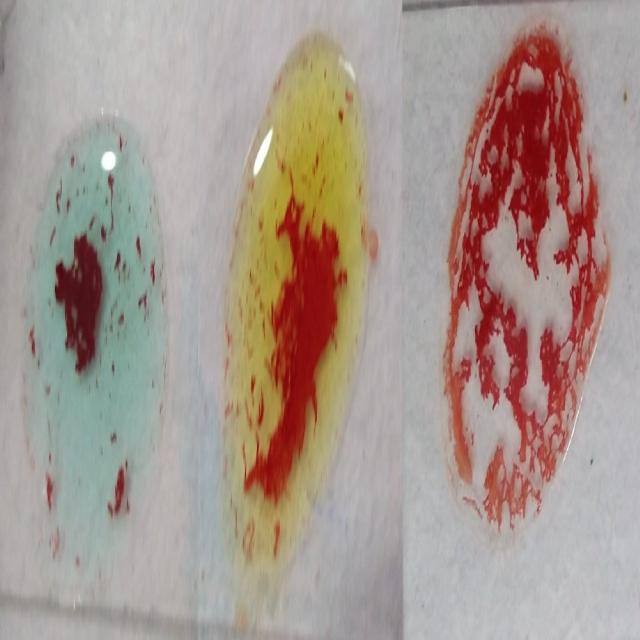A: (27, 125, 170, 567)
B: (221, 36, 363, 568)
D: (447, 33, 596, 555)
